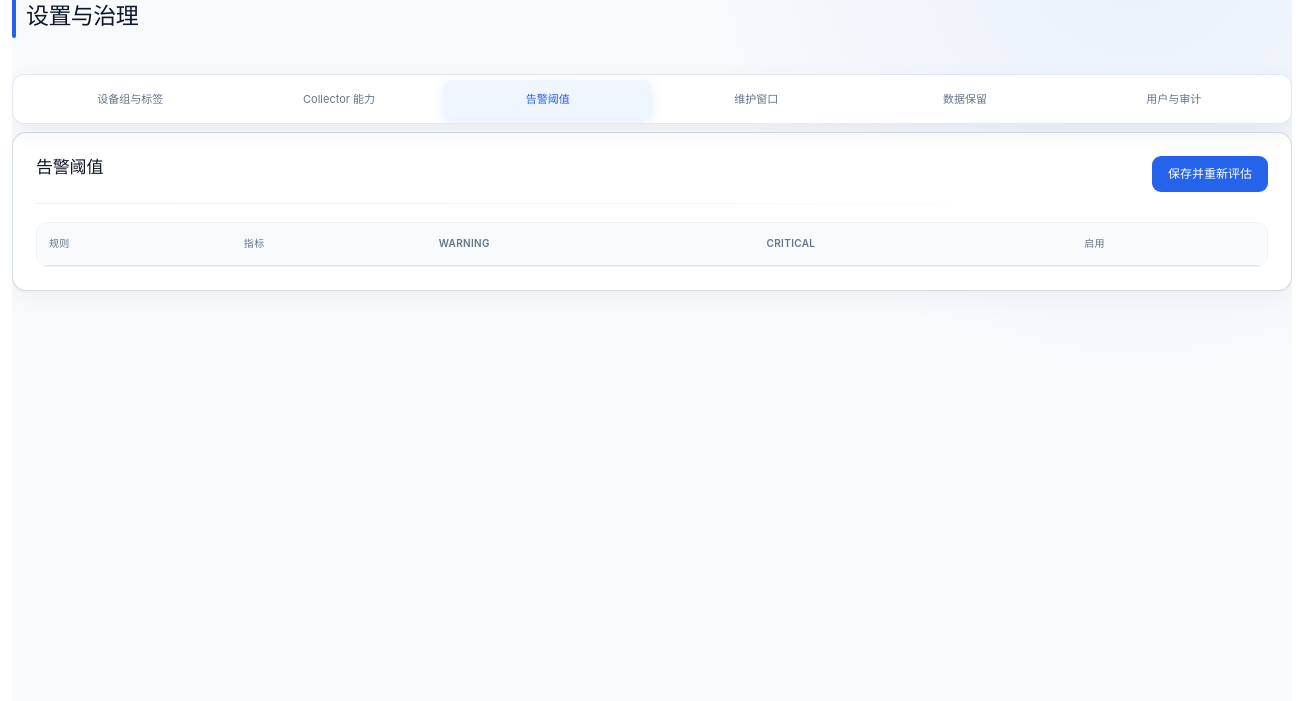
it: SettingsPage tabs › shows persisted evidence after a backup is created and read back
Click the tab with id "settings-tab-retention".
click(965, 99)  # box [862,80,1068,118]
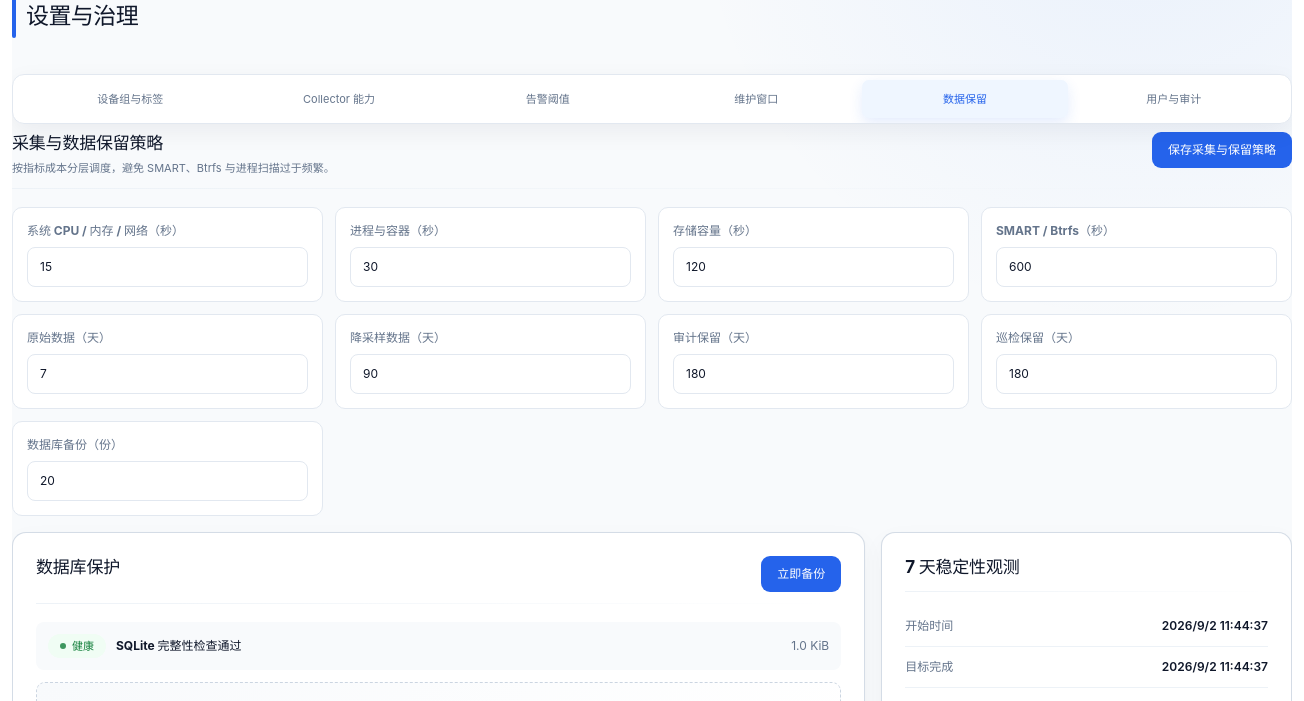
Click the button "立即备份".
click(801, 574)  # box [761,556,841,592]
(page scrolled)
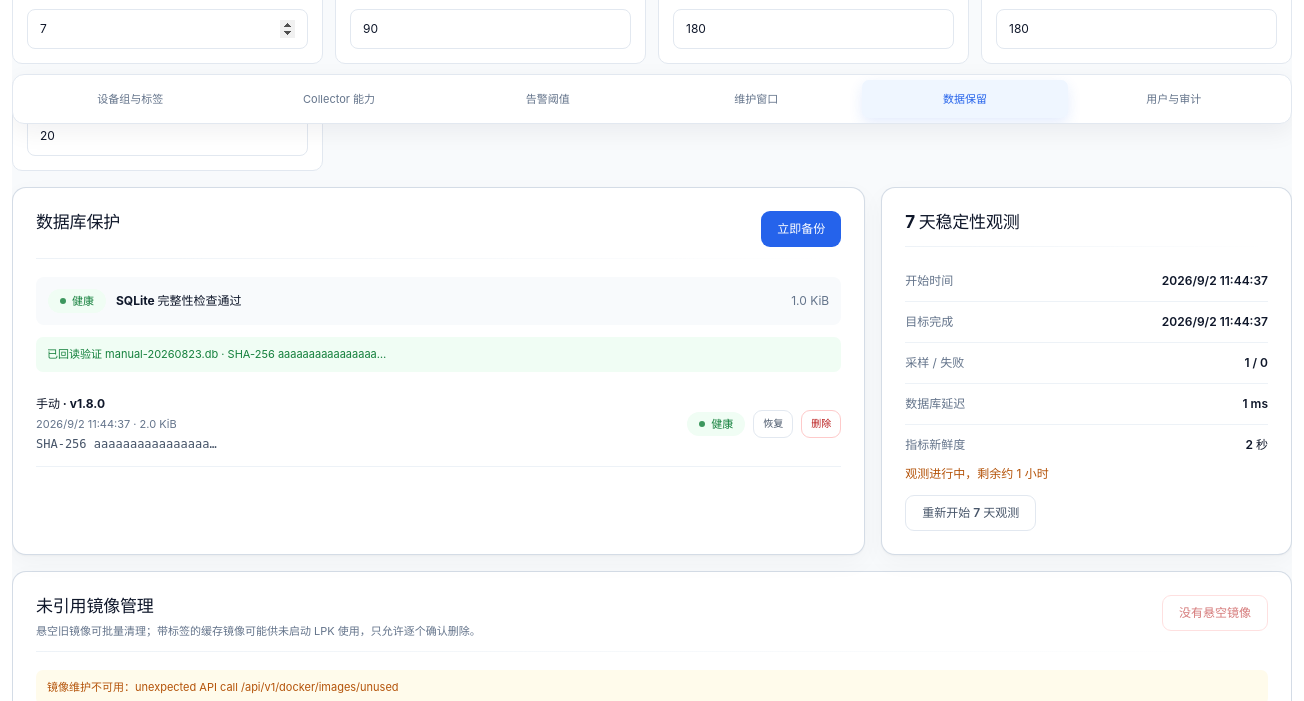
Result: the message with class "success" shows "manual-20260823.db" at [47,347,386,361]
Result: the message with class "success" shows "aaaaaaaaaaaaaaaa" at [47,347,386,361]
Result: the text "SHA-256 aaaaaaaaaaaaaaaa…" is shown at [47,347,386,361]
